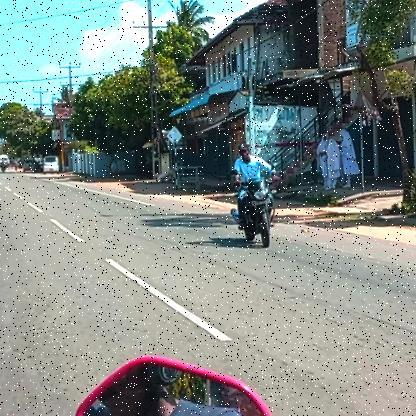motorcycle: (231, 176, 280, 249)
